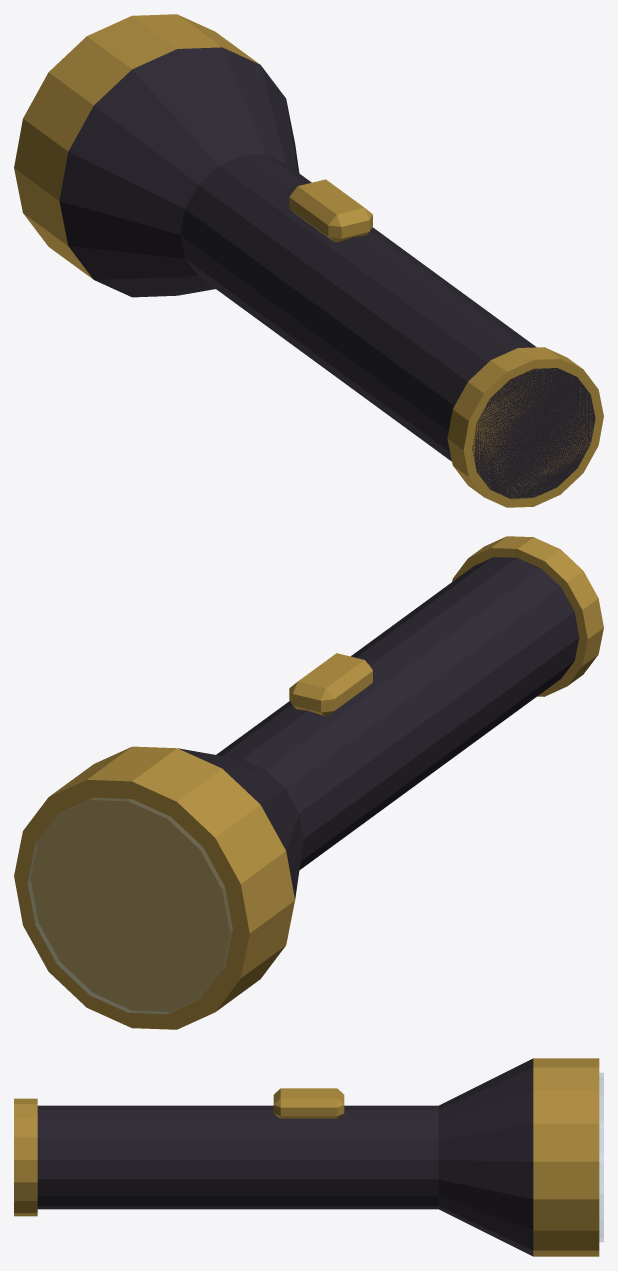
File: flashlight.glb
3 renders of one model, top to bottom at view 1: azimuth 30°, elevation 25°; view 2: azimuth 150°, elevation 25°; view 3: azimuth 270°, elevation 25°, orthographic. The views are drawn at different scales.
Visible parts, largest first — view 1: Flashlight_Body; view 2: Flashlight_Body, Flashlight_Lens; view 3: Flashlight_Body, Flashlight_Lens.
Part boxes in pixels (bbox=[...]): Flashlight_Body: bbox=[14, 14, 603, 507]; Flashlight_Body: bbox=[14, 536, 603, 1029]; Flashlight_Lens: bbox=[28, 798, 232, 1013]; Flashlight_Body: bbox=[14, 1058, 599, 1256]; Flashlight_Lens: bbox=[599, 1073, 603, 1241].
Bounding box in the file's own units: 0.084 × 0.084 × 0.25.
